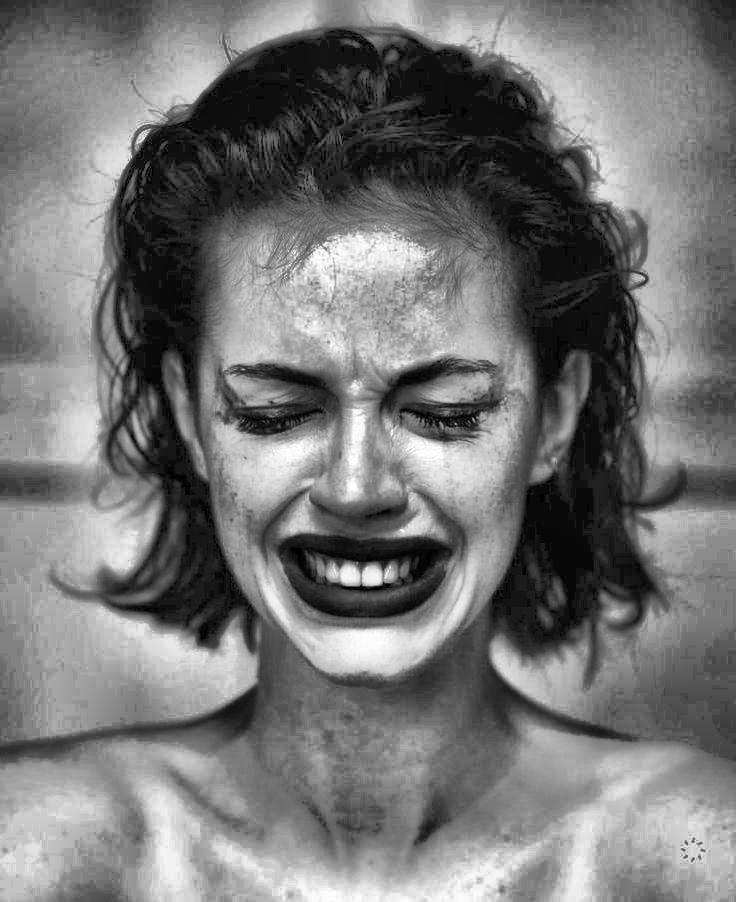sad: (182, 192, 557, 679)
